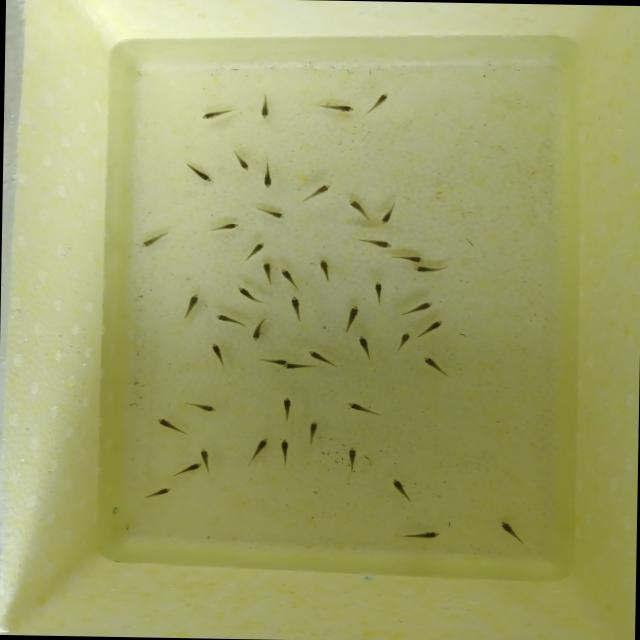fingerling: (314, 96, 362, 118), (494, 516, 526, 546), (253, 158, 280, 192), (402, 524, 443, 546), (198, 103, 242, 123), (302, 178, 338, 202), (150, 415, 189, 436), (185, 160, 214, 188), (366, 88, 396, 115), (339, 302, 363, 335), (242, 436, 270, 464), (225, 149, 256, 174), (178, 398, 224, 414), (422, 352, 448, 380), (206, 340, 232, 368), (250, 206, 294, 222), (142, 482, 178, 501), (416, 318, 448, 339), (254, 90, 276, 120), (344, 401, 382, 418), (399, 298, 434, 316), (139, 230, 170, 250), (343, 442, 361, 476), (168, 462, 205, 478), (180, 290, 200, 319), (237, 284, 263, 306), (356, 233, 391, 249), (212, 312, 246, 328), (347, 197, 370, 220), (278, 392, 294, 425), (278, 264, 298, 290), (409, 264, 451, 276), (276, 436, 294, 464), (390, 476, 410, 501), (380, 200, 400, 224), (242, 240, 266, 260), (314, 258, 334, 282), (394, 329, 414, 353), (288, 293, 304, 323), (357, 334, 374, 362), (304, 419, 321, 447), (305, 347, 332, 364), (207, 222, 244, 234), (389, 252, 426, 264), (248, 318, 266, 340), (260, 260, 274, 286), (372, 278, 386, 304), (198, 446, 213, 461), (281, 362, 303, 370), (260, 357, 283, 364)
